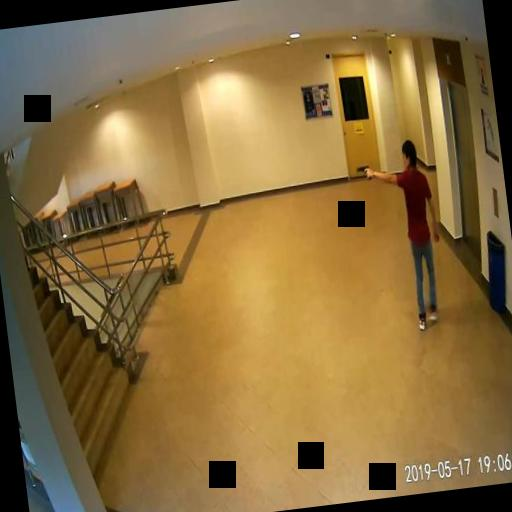Handgun: (356, 162, 372, 180)
